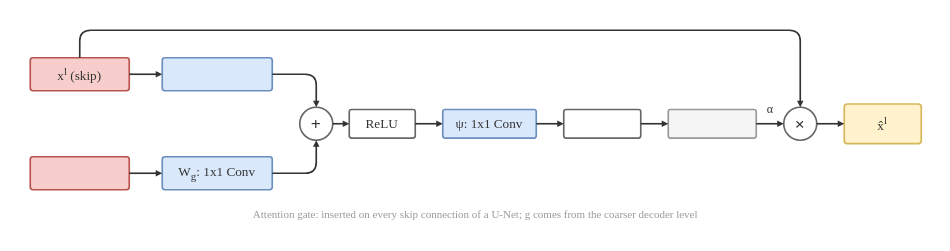
This 950x251 diagram has some shape labels left out. Here are the shapes that lost their labels. From the top down, the box of each, then its label:
(161, 56, 273, 91): W x : 1x1 Conv
(562, 108, 641, 138): Sigmoid
(667, 108, 757, 138): Resampler
(29, 155, 130, 190): g (gating)
